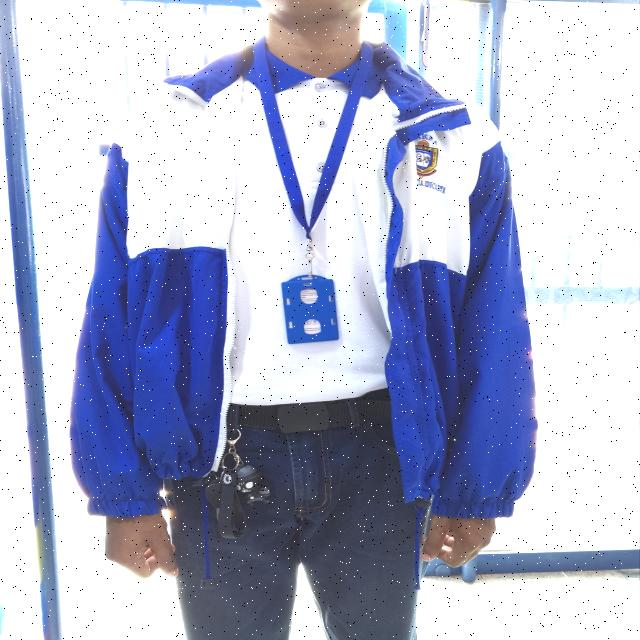carnet: (281, 279, 339, 344)
chaqueta_unefa: (70, 43, 538, 519)
